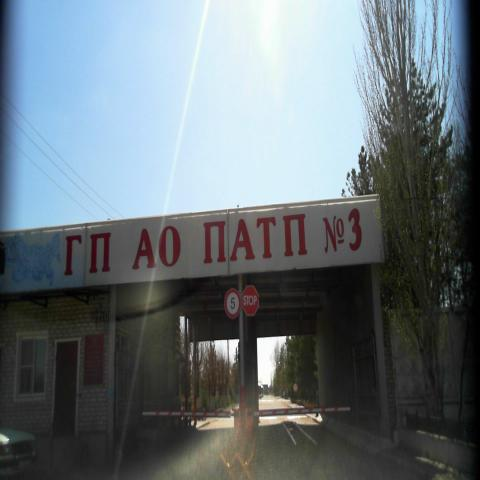2_5: (242, 284, 259, 317)
